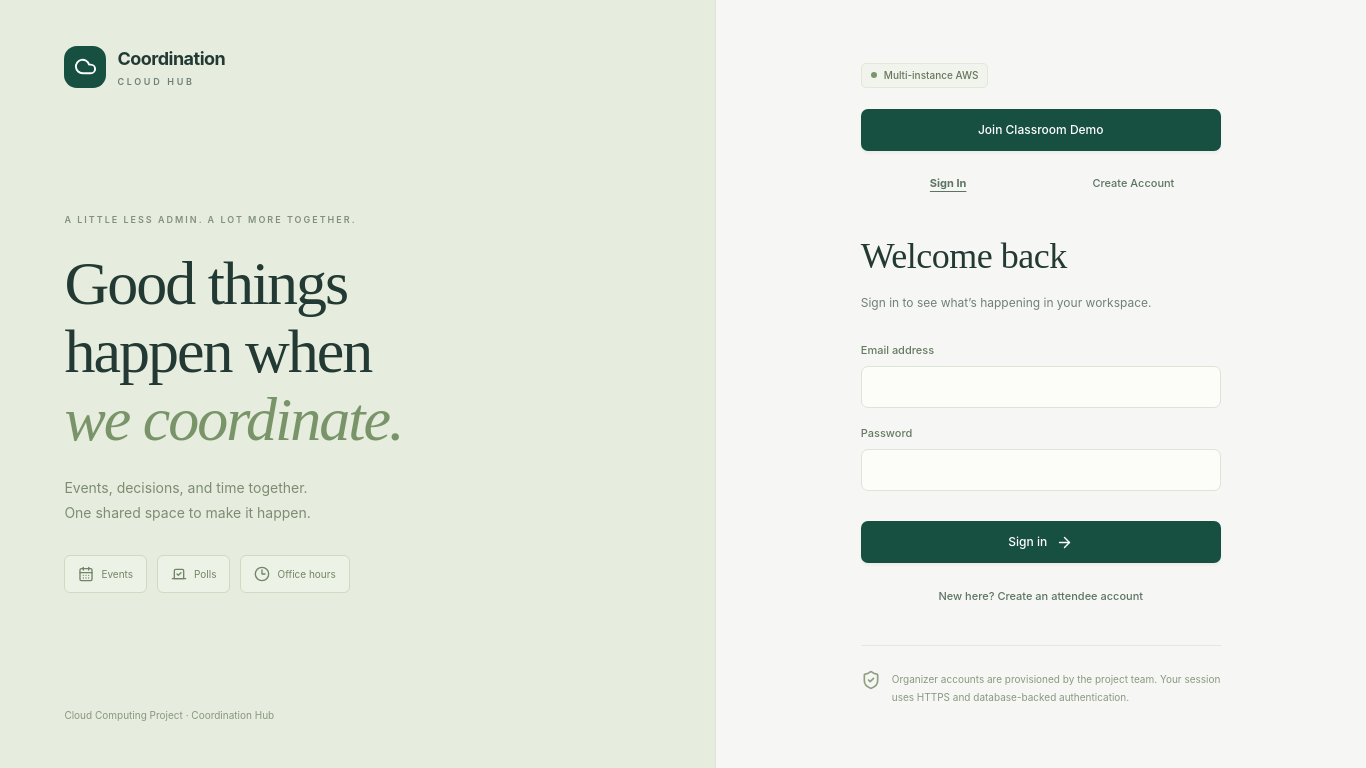
Test case: shows a clear full-appointments message when every loaded appointment is booked
Click the button "Join Classroom Demo": click(1041, 130) [861,109,1221,151]
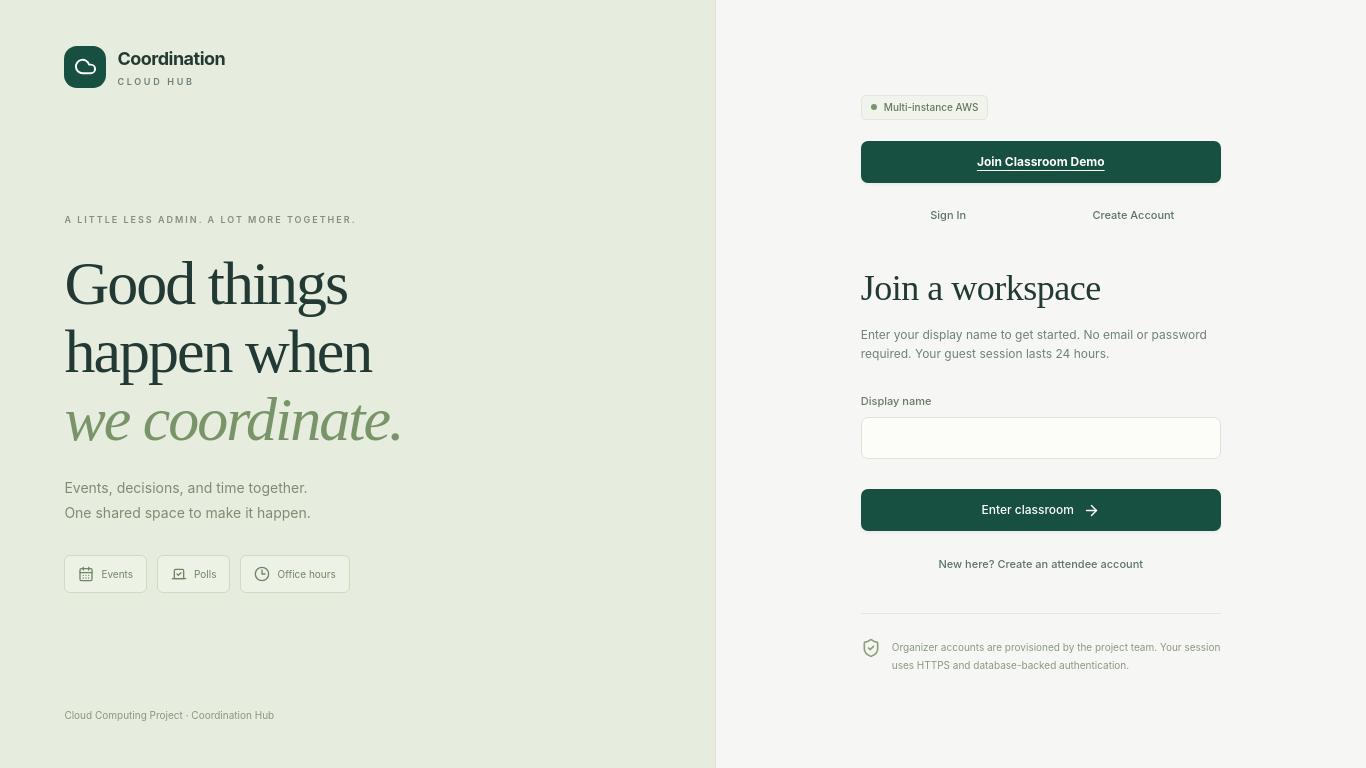
In the field labelled "Display name": (1041, 438) [861,417,1221,459], type "Class Student"
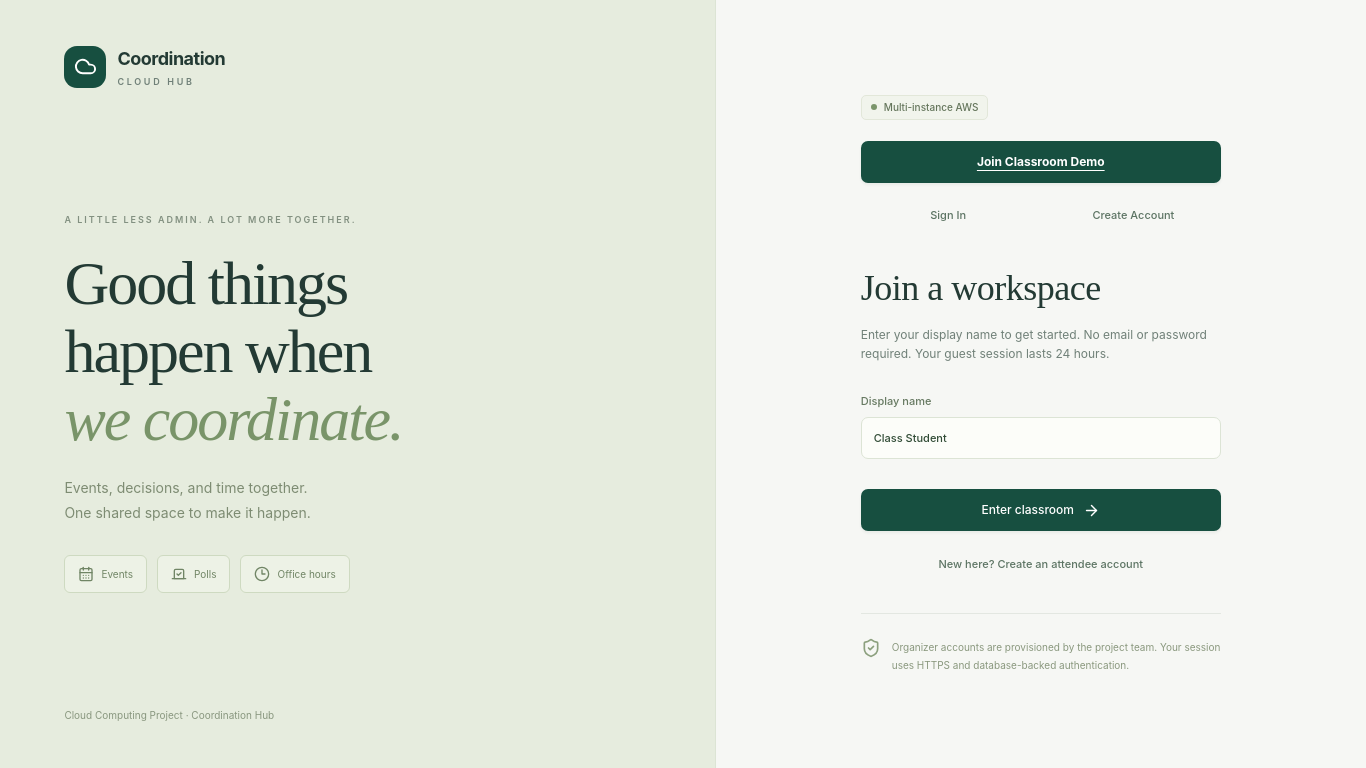
Click the button "Enter classroom": click(1041, 510) [861,489,1221,531]
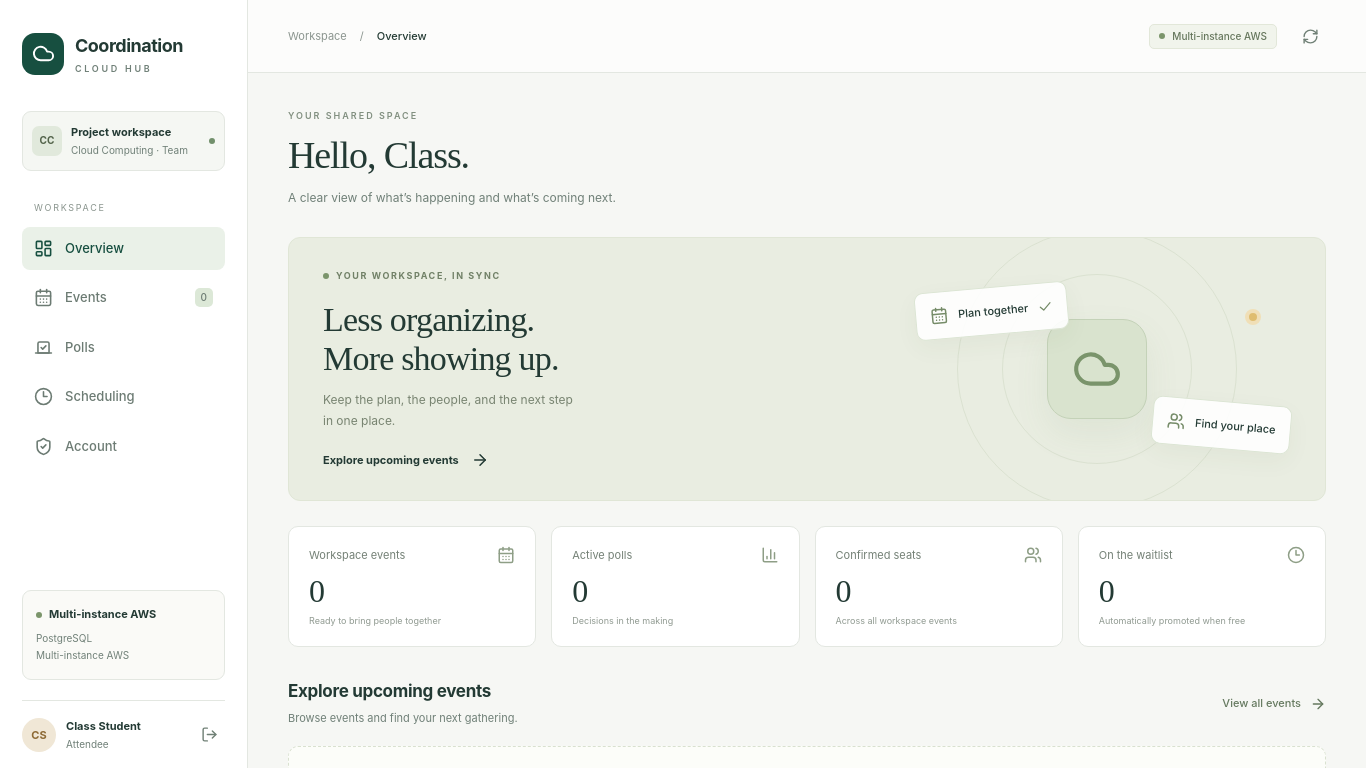
expect the heading "Hello, Class." is shown: met, box [288,134,469,176]
Click the link "Scheduling": click(84, 397) [34,387,135,406]
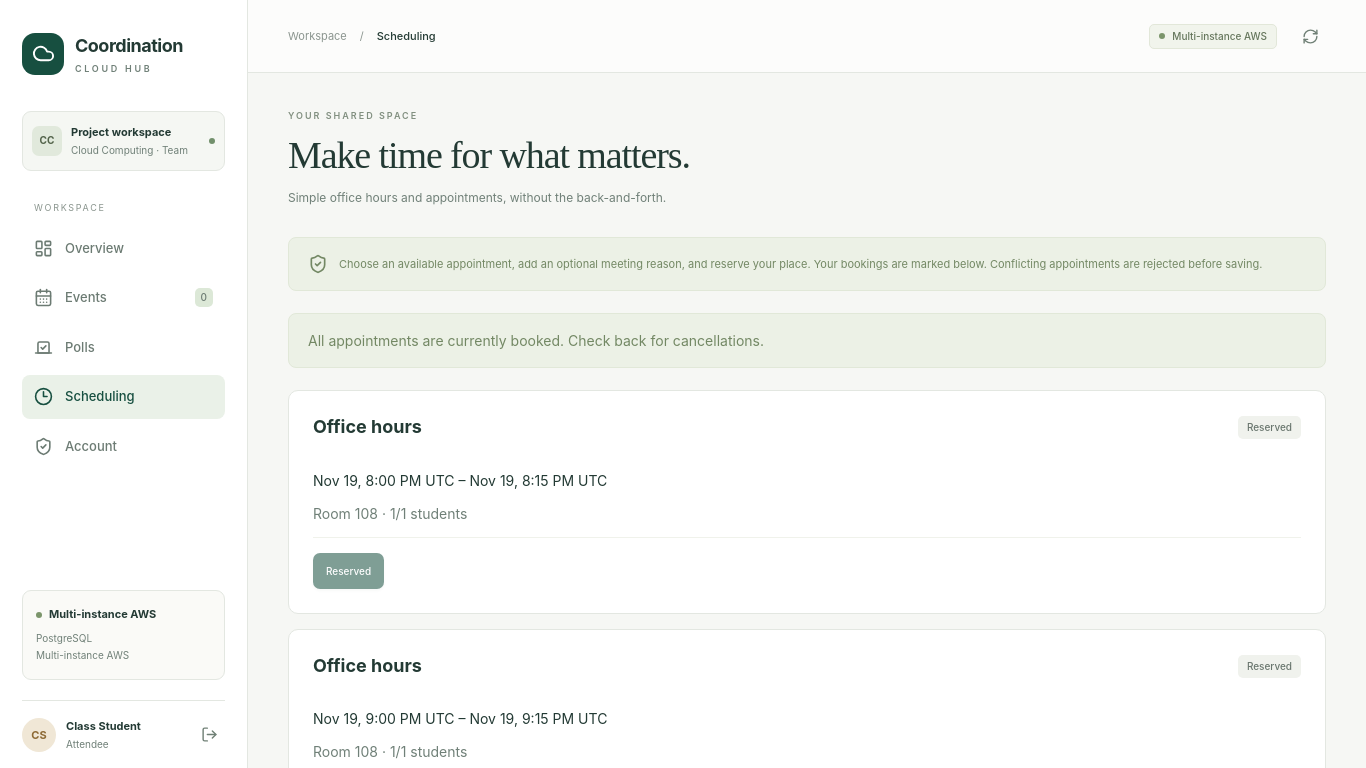
expect the text "All appointments are currently booked. Check back for cancellations." is shown: met, box [288,314,1326,368]
